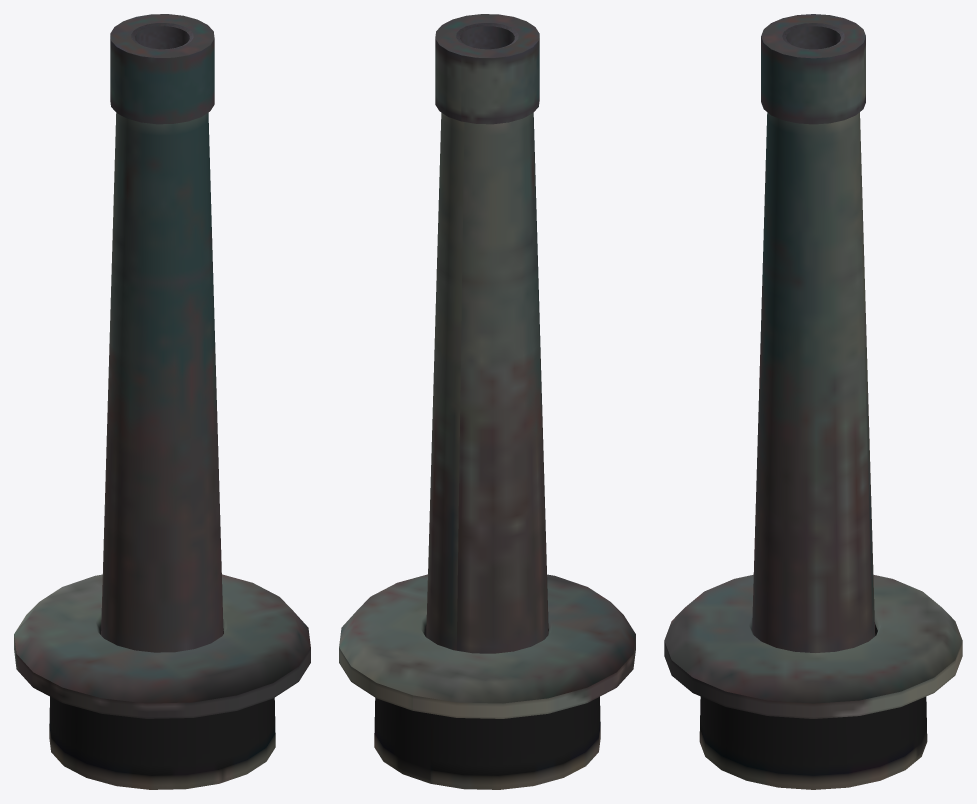
Rendered from Gun_04.glb.
The picture shows the model from 3 angles, left to right: view 1: azimuth 30°, elevation 25°; view 2: azimuth 150°, elevation 25°; view 3: azimuth 270°, elevation 25°; orthographic projection.
Visible parts, largest first — view 1: set_0_group_0; view 2: set_0_group_0; view 3: set_0_group_0.
Part boxes in pixels (x1=…): set_0_group_0: x1=14, y1=14, x2=310, y2=789; set_0_group_0: x1=339, y1=14, x2=635, y2=789; set_0_group_0: x1=664, y1=14, x2=962, y2=789.
Size of the model in its own units: 0.2629 by 0.686 by 0.2629.
1 material, 1 textured.
